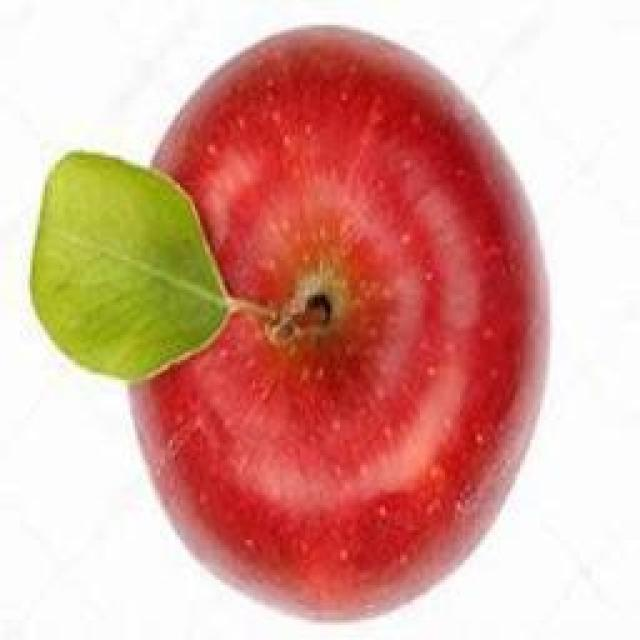apple: (106, 29, 549, 616)
